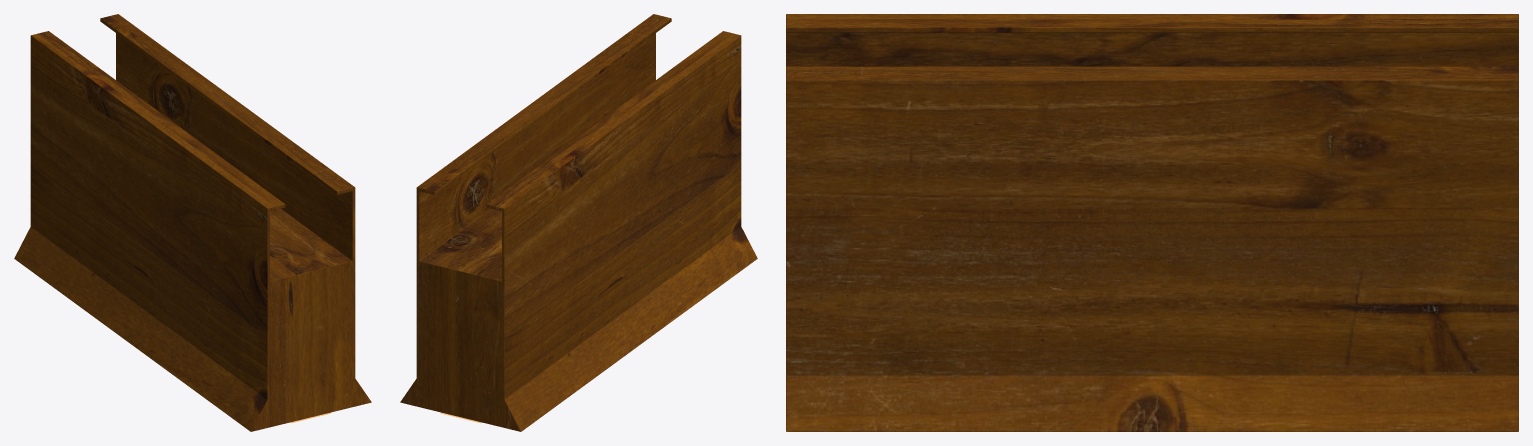
File: baffle-direct.glb
3 renders of one model, left to right at view 1: azimuth 30°, elevation 25°; view 2: azimuth 150°, elevation 25°; view 3: azimuth 270°, elevation 25°, orthographic. The views are drawn at different scales.
Parts seen in each view (by area): view 1: direct-light; view 2: direct-light; view 3: direct-light.
Part boxes in pixels (<box>): direct-light: <box>14,14,371,431</box>; direct-light: <box>400,14,757,431</box>; direct-light: <box>786,14,1518,431</box>.
Bounding box in the file's own units: 0.7681 × 1.34 × 2.6.
2 materials, 1 textured.
